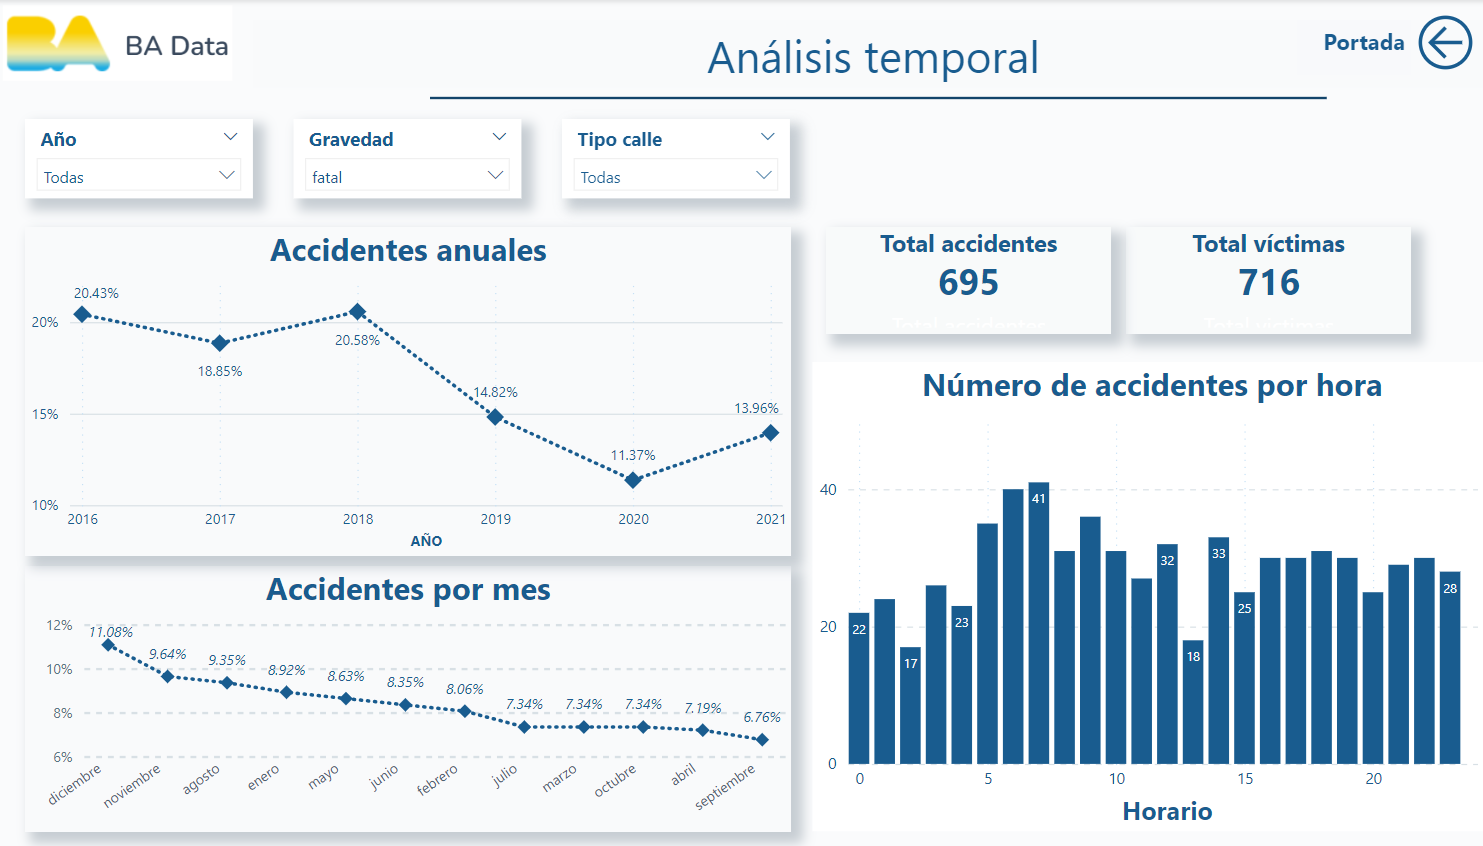

The dashboard page shown, as its layout file describes it:
{"tool":"powerbi","page":{"name":"Análisis temporal","canvas":[1280,720],"ordinal":2},"visuals":[{"type":"lineChart","title":"Accidentes anuales","fields":{"Category":["hechos.año"],"Y":["hechos.Total accidentes"]},"box":[25.4,193.4,650.2,278.6],"z":0},{"type":"card","title":"Total accidentes","fields":{"Values":["hechos.Total accidentes"]},"box":[704.9,193.4,241.7,90.3],"z":1000},{"type":"slicer","fields":{"Values":["hechos.gravedad"]},"box":[253.5,101.9,193.6,67.5],"z":2000},{"type":"slicer","fields":{"Values":["hechos.año"]},"box":[25.4,101.8,193.4,67.4],"z":3000},{"type":"image","box":[0,0,207.8,74.4],"z":4000},{"type":"textbox","box":[218.8,17.8,1061.2,57.3],"z":5000},{"type":"shape","box":[369,36.9,760.9,94.2],"z":6000},{"type":"actionButton","box":[1201.1,7.6,67.4,58.5],"z":7000},{"type":"textbox","box":[1104.4,17.8,96.7,47.1],"z":8000},{"type":"lineChart","title":"Accidentes por mes","fields":{"Category":["hechos.mes"],"Y":["CountNonNull(hechos.mes)"]},"box":[25.4,481,650.2,225.2],"z":9000},{"type":"columnChart","title":"Número de accidentes por hora","fields":{"Category":["hechos.hh"],"Y":["CountNonNull(hechos.hh)"]},"box":[693.4,307.9,576.4,398.3],"z":10000},{"type":"card","title":"Total víctimas","fields":{"Values":["hechos.Total victimas"]},"box":[959.4,193.4,241.7,90.3],"z":11000},{"type":"slicer","fields":{"Values":["hechos.tipo_calle"]},"box":[481.4,101.9,193.6,67.5],"z":12000}]}

Visuals, with their boxes in screenshot pixels (x1, y1, x2, y2), scaled from the page's 1280x720 canvas onto the 1483x846 screenshot:
"Accidentes anuales" lineChart: pyautogui.locateOnScreen(29, 227, 783, 555)
"Total accidentes" card: pyautogui.locateOnScreen(817, 227, 1097, 333)
slicer - hechos.gravedad: pyautogui.locateOnScreen(294, 120, 518, 199)
slicer - hechos.año: pyautogui.locateOnScreen(29, 120, 254, 199)
image: pyautogui.locateOnScreen(0, 0, 241, 87)
textbox: pyautogui.locateOnScreen(254, 21, 1482, 88)
shape: pyautogui.locateOnScreen(428, 43, 1309, 154)
actionButton: pyautogui.locateOnScreen(1392, 9, 1470, 78)
textbox: pyautogui.locateOnScreen(1280, 21, 1392, 76)
"Accidentes por mes" lineChart: pyautogui.locateOnScreen(29, 565, 783, 830)
"Número de accidentes por hora" columnChart: pyautogui.locateOnScreen(803, 362, 1471, 830)
"Total víctimas" card: pyautogui.locateOnScreen(1112, 227, 1392, 333)
slicer - hechos.tipo_calle: pyautogui.locateOnScreen(558, 120, 782, 199)
